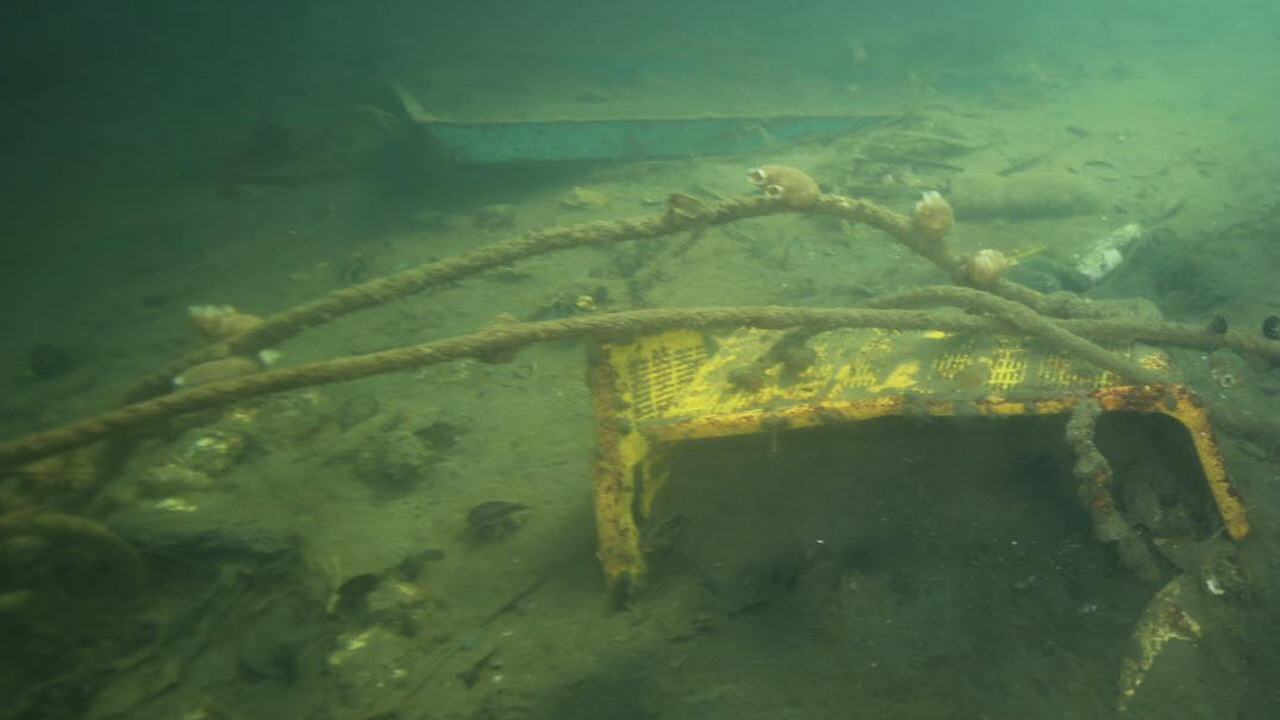bundle of ropes: (0, 189, 1280, 468)
